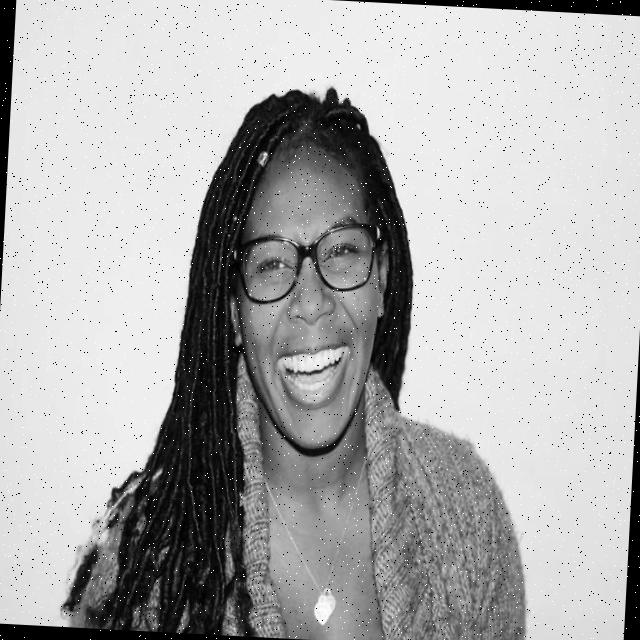Happiness: (223, 139, 394, 460)
